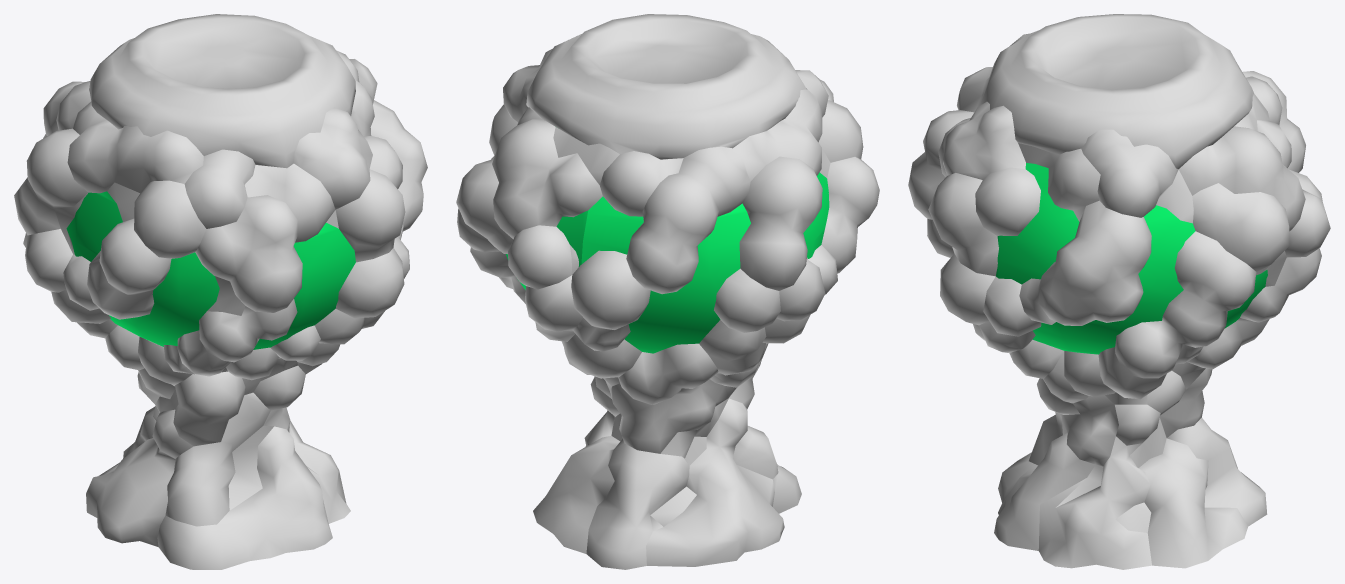
The model's file is obj_jewel_crystal03.fbx.
3 renders of one model, left to right at view 1: azimuth 30°, elevation 25°; view 2: azimuth 150°, elevation 25°; view 3: azimuth 270°, elevation 25°, orthographic.
Visible parts, largest first — view 1: goop.001, hat.001, body.001; view 2: goop.001, hat.001, body.001; view 3: goop.001, hat.001, body.001.
Boxes of the visible parts, x1=… form: goop.001: x1=14, y1=50, x2=427, y2=569; hat.001: x1=89, y1=14, x2=355, y2=168; body.001: x1=66, y1=191, x2=355, y2=349; goop.001: x1=456, y1=48, x2=879, y2=569; hat.001: x1=526, y1=14, x2=806, y2=159; body.001: x1=506, y1=172, x2=829, y2=353; goop.001: x1=908, y1=33, x2=1330, y2=569; hat.001: x1=980, y1=14, x2=1253, y2=169; body.001: x1=996, y1=163, x2=1267, y2=354.
Size of the model in its own units: 5.54 by 6.97 by 5.59.
